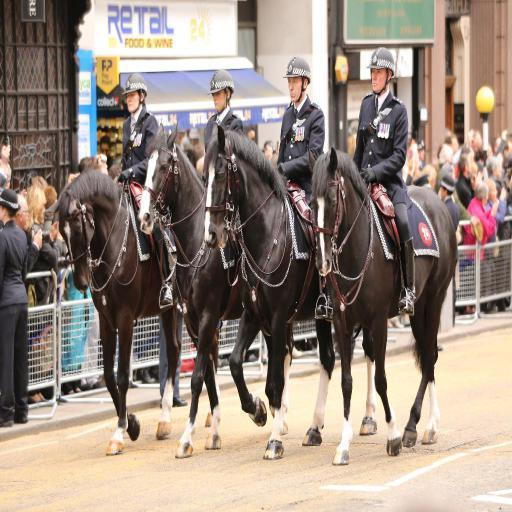horse: (203, 118, 378, 456), (134, 118, 294, 458), (42, 169, 220, 457), (304, 132, 454, 455)
